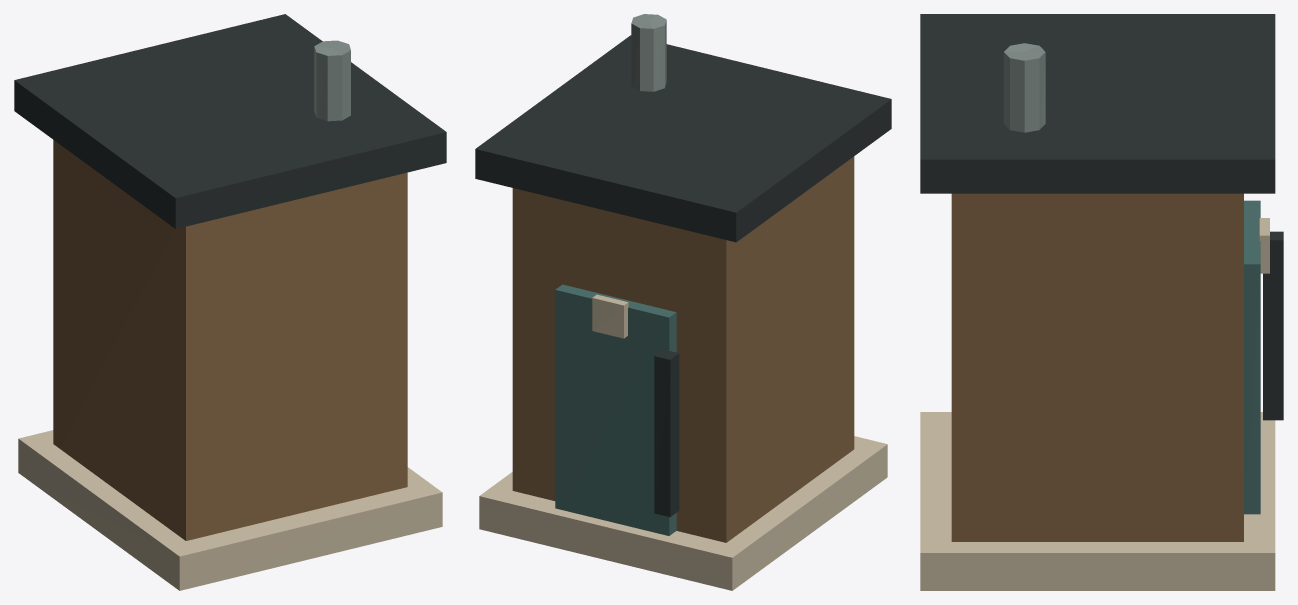
Rendered from Outhouse.glb.
The picture shows the model from 3 angles, left to right: view 1: azimuth 30°, elevation 25°; view 2: azimuth 150°, elevation 25°; view 3: azimuth 270°, elevation 25°; orthographic projection. The views are drawn at different scales.
Visible parts, largest first — view 1: outhouse-static-out-timber, outhouse-static-out-iron, outhouse-static-out-cream, outhouse-static-out-galv; view 2: outhouse-static-out-timber, outhouse-static-out-iron, outhouse-static-out-teal, outhouse-static-out-cream, outhouse-static-out-galv; view 3: outhouse-static-out-timber, outhouse-static-out-iron, outhouse-static-out-cream, outhouse-static-out-teal, outhouse-static-out-galv.
Boxes of the visible parts, x1=… form: outhouse-static-out-timber: x1=53, y1=140, x2=407, y2=540; outhouse-static-out-iron: x1=14, y1=14, x2=446, y2=228; outhouse-static-out-cream: x1=18, y1=430, x2=442, y2=590; outhouse-static-out-galv: x1=314, y1=40, x2=350, y2=121; outhouse-static-out-timber: x1=512, y1=156, x2=854, y2=542; outhouse-static-out-iron: x1=475, y1=35, x2=891, y2=516; outhouse-static-out-teal: x1=555, y1=284, x2=676, y2=535; outhouse-static-out-cream: x1=479, y1=294, x2=887, y2=590; outhouse-static-out-galv: x1=631, y1=14, x2=666, y2=91; outhouse-static-out-timber: x1=951, y1=193, x2=1243, y2=541; outhouse-static-out-iron: x1=920, y1=14, x2=1283, y2=420; outhouse-static-out-cream: x1=920, y1=218, x2=1275, y2=590; outhouse-static-out-teal: x1=1244, y1=200, x2=1260, y2=514; outhouse-static-out-galv: x1=1003, y1=43, x2=1045, y2=132.
Size of the model in its own units: 1.65 by 2.67 by 1.74.
